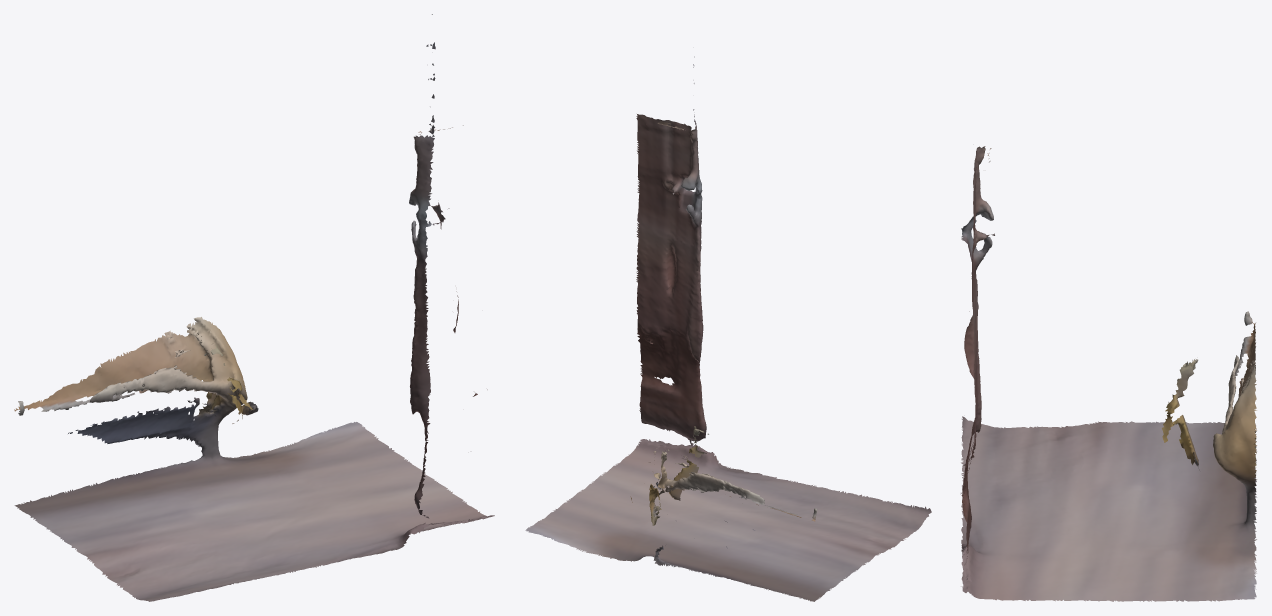
The model's file is apartment-full-41-3a3b54a41e32.glb.
3 renders of one model, left to right at view 1: azimuth 30°, elevation 25°; view 2: azimuth 150°, elevation 25°; view 3: azimuth 270°, elevation 25°, orthographic. The views are drawn at different scales.
Bounding box in the file's own units: 1.18 × 1.77 × 0.833.
